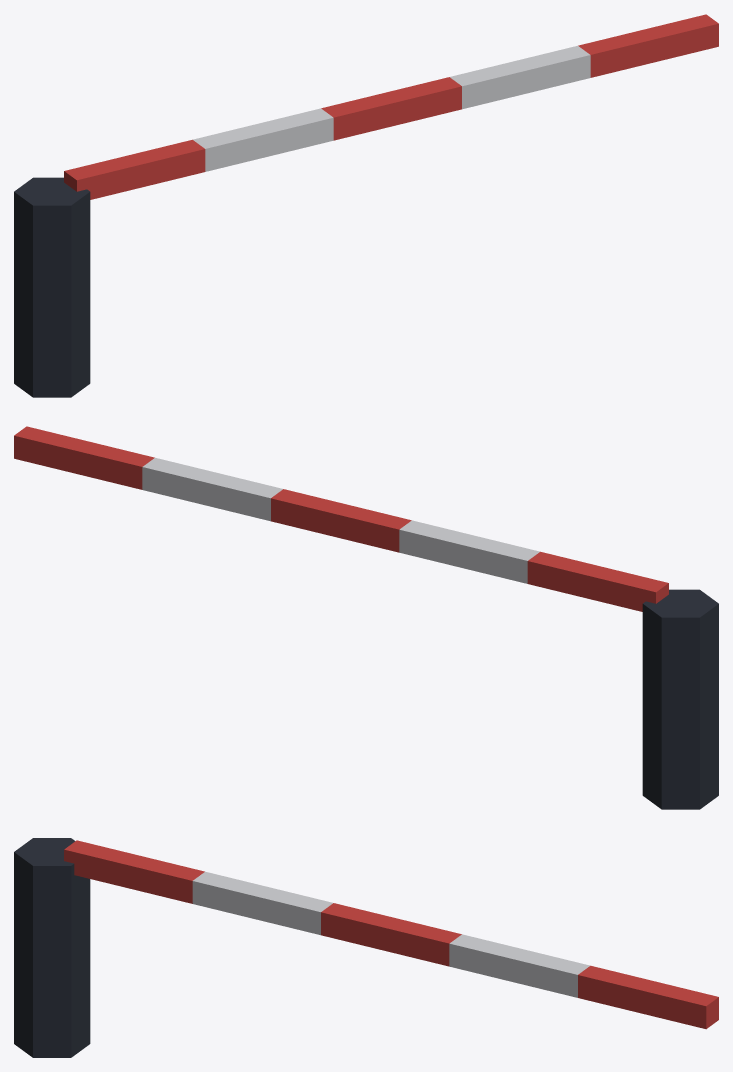
File: barrier.glb
3 renders of one model, top to bottom at view 1: azimuth 30°, elevation 25°; view 2: azimuth 150°, elevation 25°; view 3: azimuth 330°, elevation 25°, orthographic.
Visible parts, largest first — view 1: barrier; view 2: barrier; view 3: barrier.
Part boxes in pixels (x1,y1,x2,y2): barrier: (14, 14, 718, 397); barrier: (14, 426, 718, 809); barrier: (14, 838, 718, 1057).
Size of the model in its own units: 3.76 by 1.06 by 0.36.
